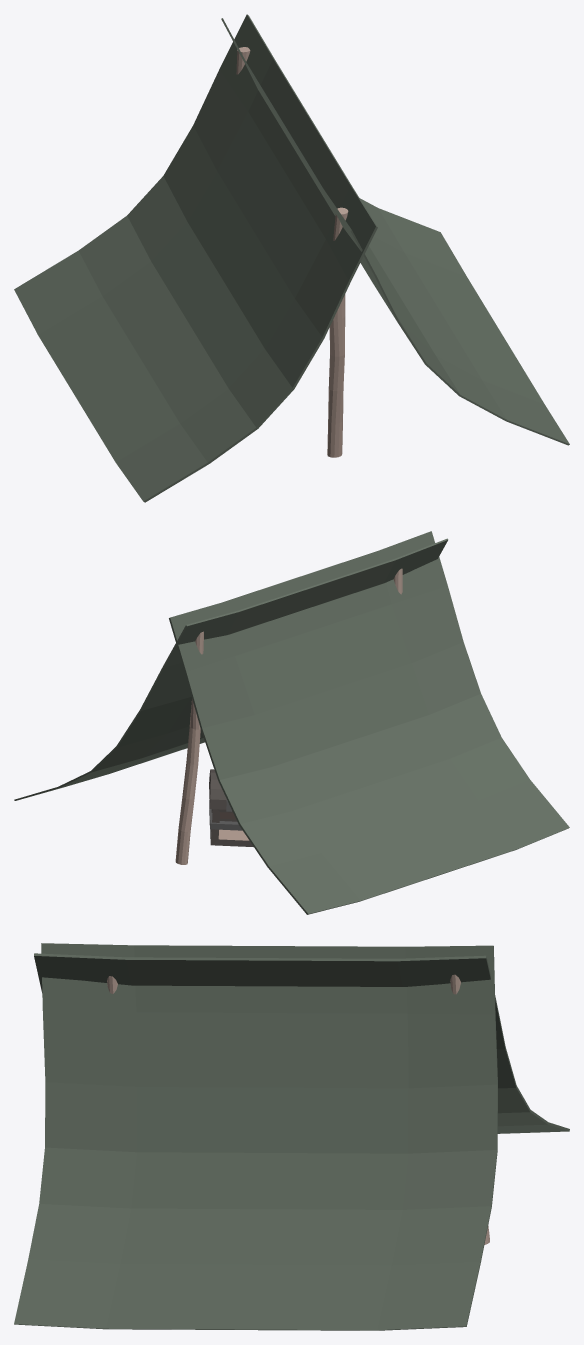
Rendered from Tent.fbx.
3 views of the same model, one above another, from view 1: azimuth 30°, elevation 25°; view 2: azimuth 150°, elevation 25°; view 3: azimuth 270°, elevation 25° (orthographic). The views are drawn at different scales.
Visible parts, largest first — view 1: Tent; view 2: Tent, Chest; view 3: Tent.
Part boxes in pixels (bbox=[...]): Tent: bbox=[14, 14, 569, 502]; Tent: bbox=[14, 531, 569, 914]; Chest: bbox=[209, 769, 253, 847]; Tent: bbox=[14, 943, 569, 1330].
Bounding box in the file's own units: 2578 × 1631 × 2518.
